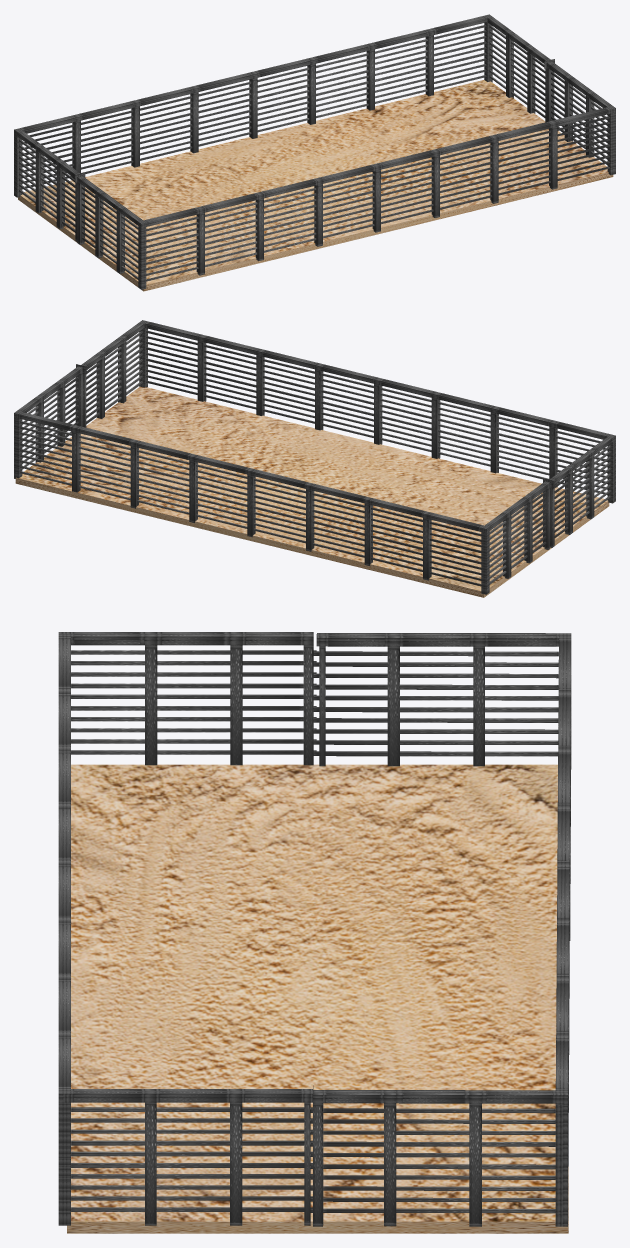
Rendered from valla2.obj.
3 renders of one model, top to bottom at view 1: azimuth 30°, elevation 25°; view 2: azimuth 150°, elevation 25°; view 3: azimuth 270°, elevation 25°, orthographic. The views are drawn at different scales.
Visible parts, largest first — view 1: Box001, railing_railing_railing_dining_railing_ground_floor, railing_railing_railing_dining_railing_ground_floor001; view 2: Box001, railing_railing_railing_dining_railing_ground_floor001, railing_railing_railing_dining_railing_ground_floor; view 3: Box001, railing_railing_railing_dining_railing_ground_floor001, railing_railing_railing_dining_railing_ground_floor.
Boxes of the visible parts, x1,y1,x2,y2 form: Box001: (18,80,613,291); railing_railing_railing_dining_railing_ground_floor: (75,61,615,289); railing_railing_railing_dining_railing_ground_floor001: (14,14,554,241); Box001: (15,386,609,597); railing_railing_railing_dining_railing_ground_floor001: (14,364,552,594); railing_railing_railing_dining_railing_ground_floor: (76,320,615,547); Box001: (67,764,568,1233); railing_railing_railing_dining_railing_ground_floor001: (310,633,571,1226); railing_railing_railing_dining_railing_ground_floor: (58,632,316,1225).
Bounding box in the file's own units: 462 × 66.48 × 215.
Materials: 2 (2 with a texture image).
